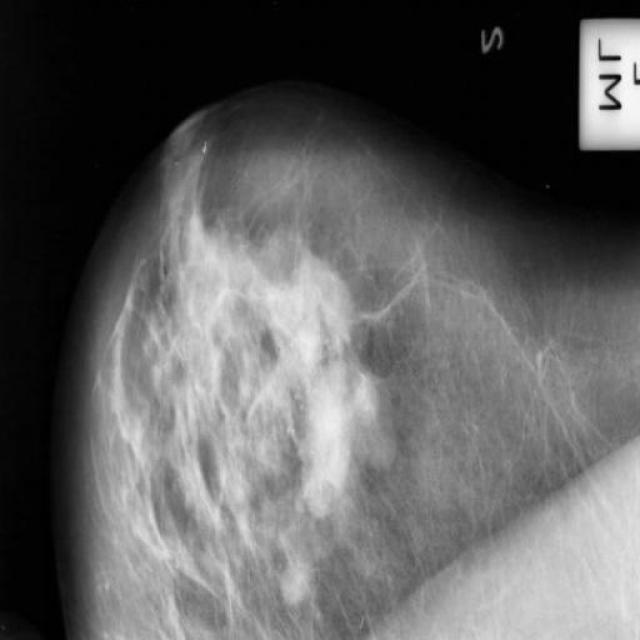cancer: (294, 304, 351, 396)
